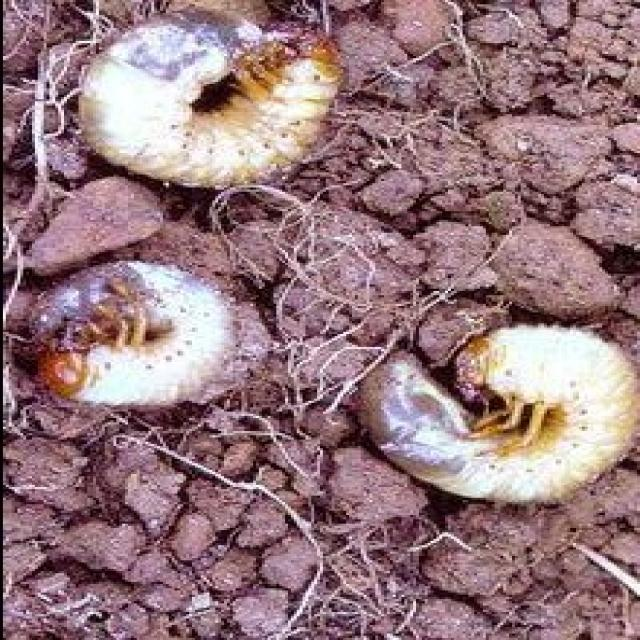grub: (352, 319, 634, 506), (81, 19, 357, 187), (37, 257, 244, 417)
